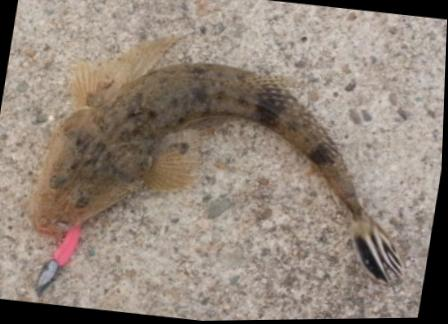fish: (29, 37, 405, 286)
